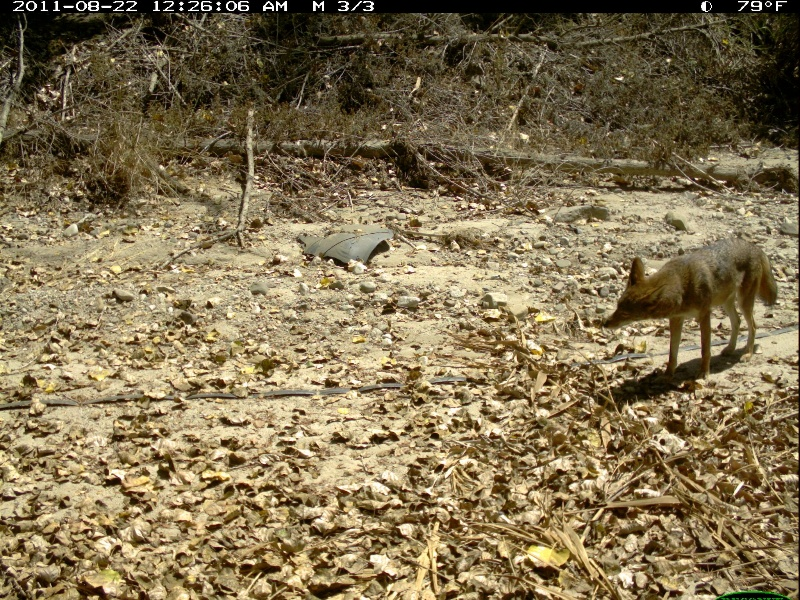coyote: (602, 233, 779, 392)
